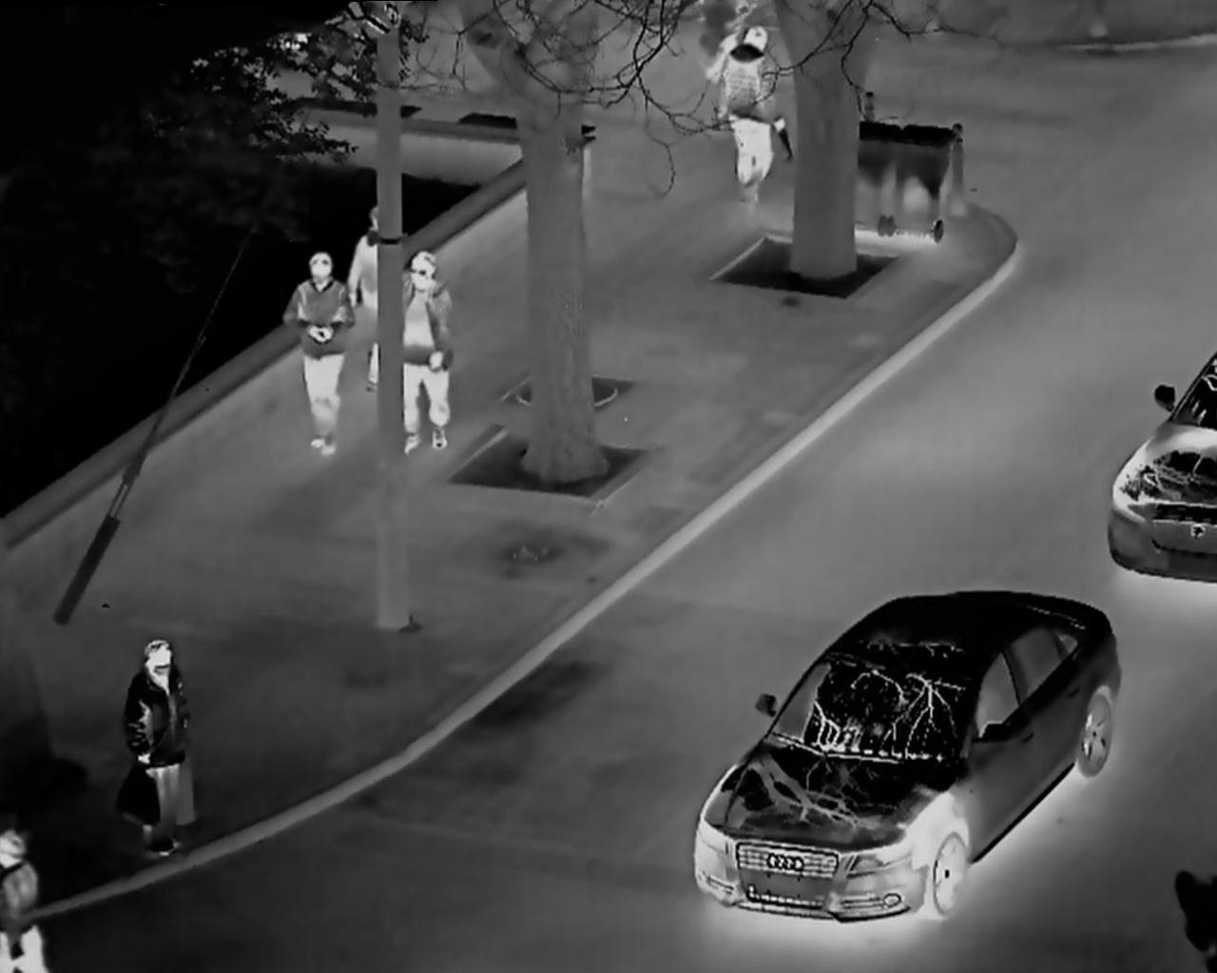person: (113, 628, 224, 867), (392, 246, 472, 465), (721, 9, 786, 212), (289, 241, 348, 462)
